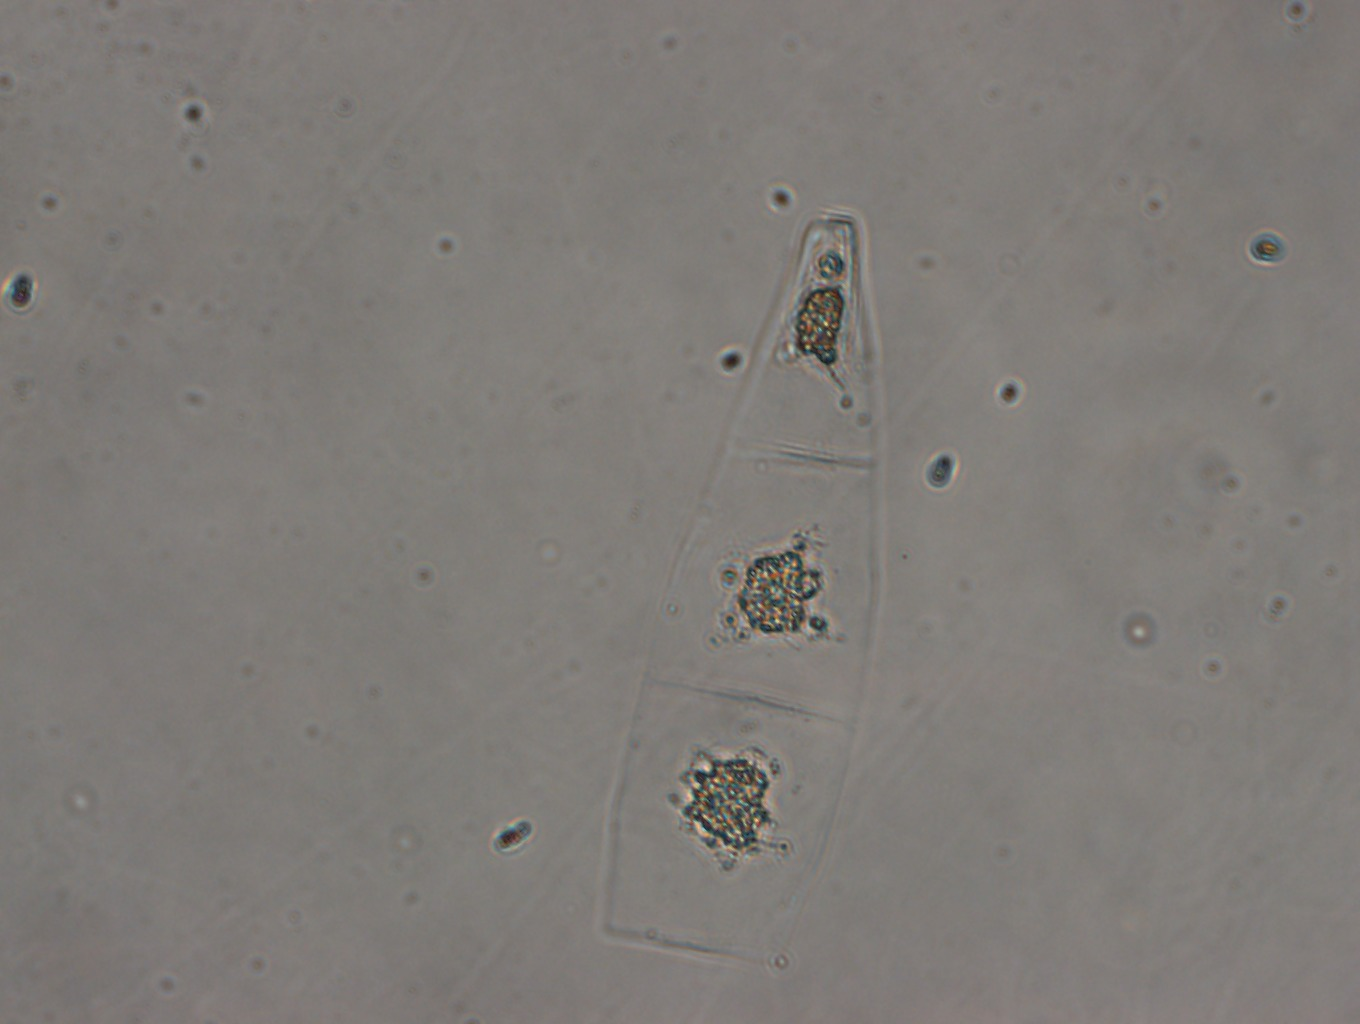helicotheca: (604, 208, 884, 977)
